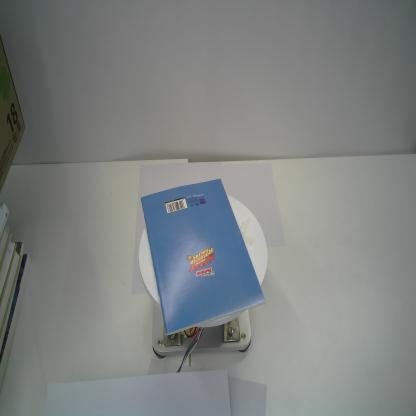Stationery: (140, 177, 266, 337)
